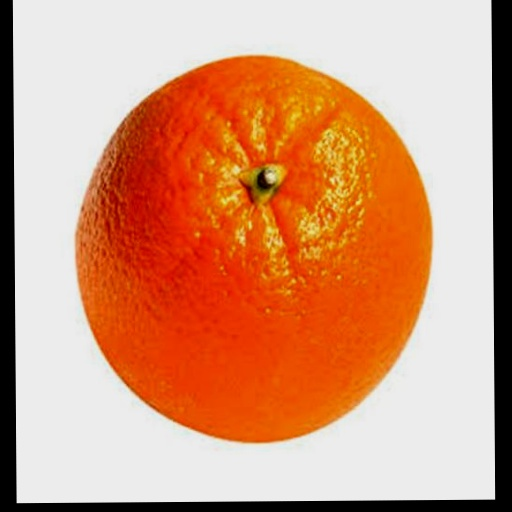fruit: (77, 58, 431, 441)
